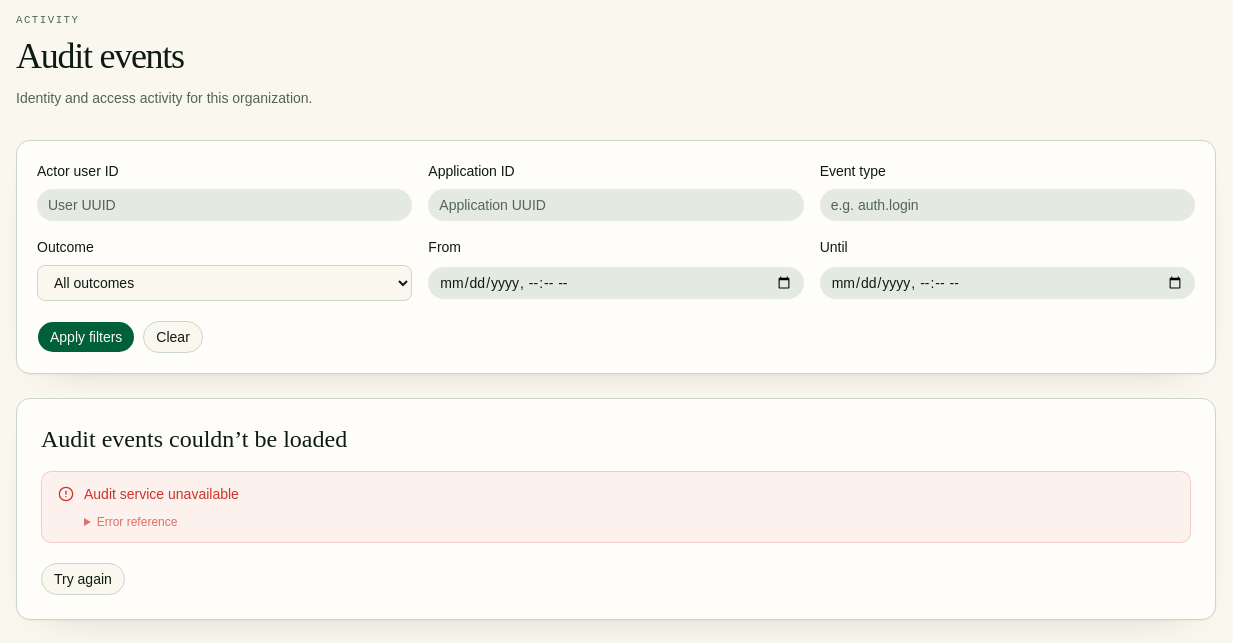
Test: AuditPage › shows an API error with a retry action
The image size is (1233, 643).
expect the heading "Audit events couldn’t be loaded" is shown: met, box [41,426,347,452]
expect the text "Audit service unavailable" is shown: met, box [84,486,239,502]
Click the button "Try again". click: (83, 579)
box: [41,563,125,595]
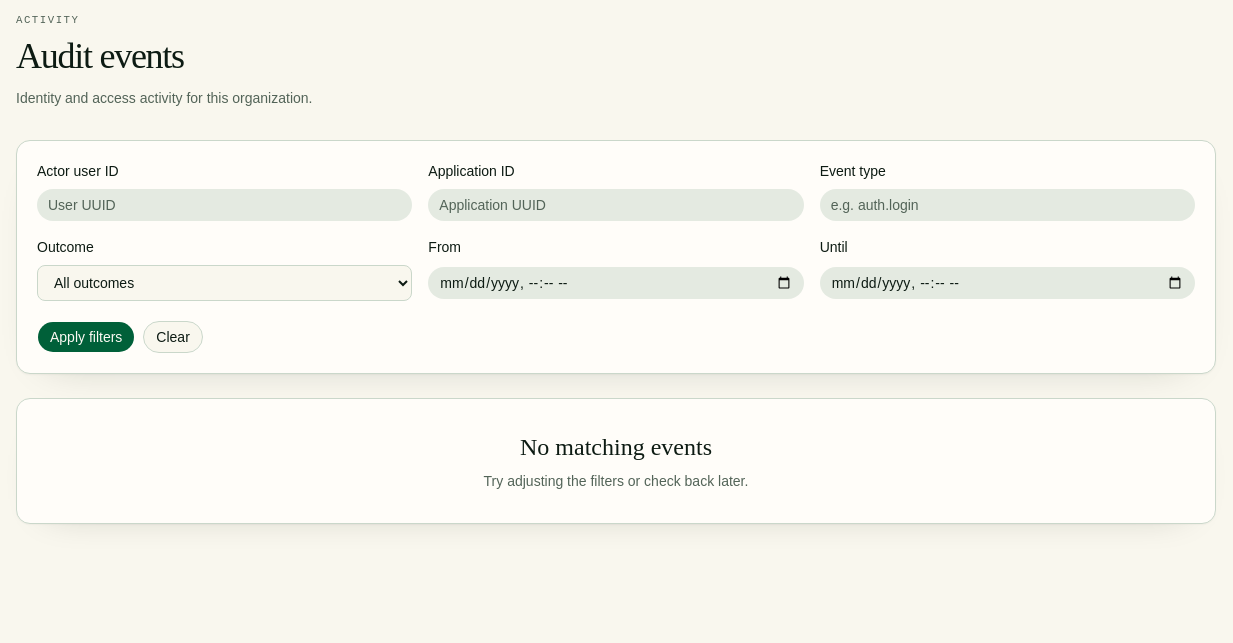
expect the heading "No matching events" is shown: met, box [520,434,712,460]
